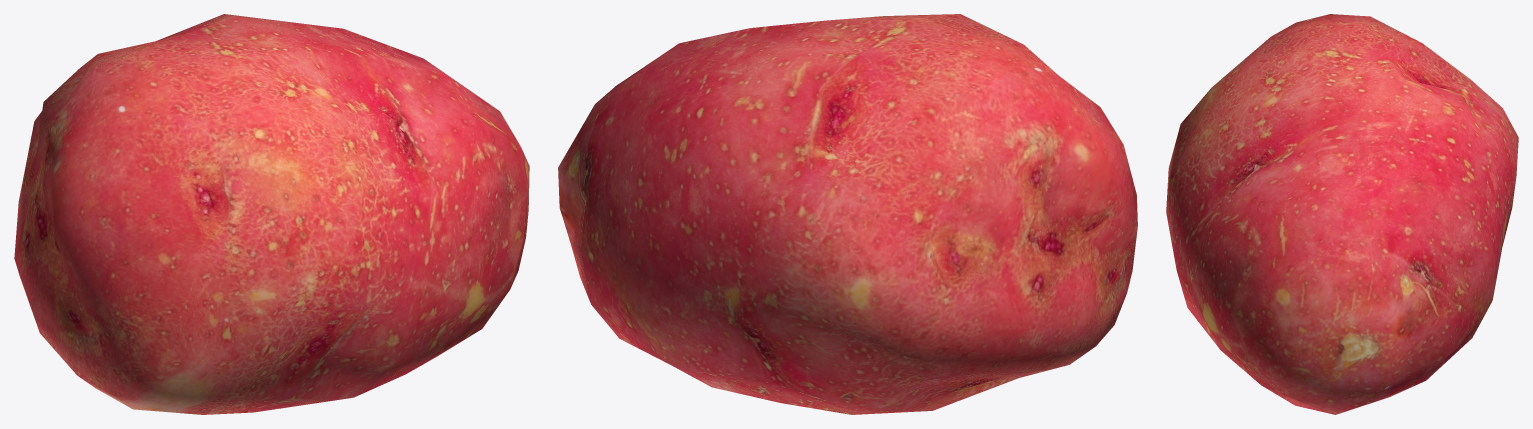
Rendered from A20_Potato_low.fbx.
The picture shows the model from 3 angles, left to right: view 1: azimuth 30°, elevation 25°; view 2: azimuth 150°, elevation 25°; view 3: azimuth 270°, elevation 25°; orthographic projection. The views are drawn at different scales.
Visible parts, largest first — view 1: A20_Potato_low; view 2: A20_Potato_low; view 3: A20_Potato_low.
Boxes of the visible parts, x1,y1,x2,y2 form: A20_Potato_low: [14, 14, 529, 414]; A20_Potato_low: [558, 14, 1137, 414]; A20_Potato_low: [1166, 14, 1518, 414].
Bounding box in the file's own units: 5.09 × 3.93 × 3.54.
1 material, 1 textured.
